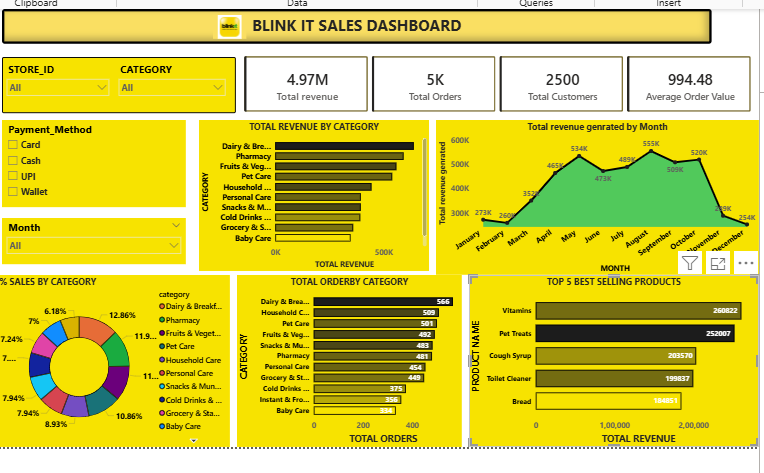

This screenshot's page, from the dashboard's own definition file:
{"tool":"powerbi","page":{"name":"sale analysis","canvas":[1600,920],"ordinal":0},"visuals":[{"type":"textbox","box":[10,0,1490,73.3],"z":0},{"type":"image","box":[453.3,11.7,70,50],"z":1000},{"type":"cardVisual","fields":{"Data":["blinkit_order_items.total orders","blinkit_orders.total customers","blinkit_marketing_performance.TOTAL REVENUE","blinkit_orders.average order value"]},"box":[501.8,81.9,1098.2,151.2],"z":2000},{"type":"barChart","title":"TOTAL REVENUE BY CATEGORY","fields":{"Category":["blinkit_products.category"],"Y":["blinkit_order_items.Total revenue genrated"]},"box":[424.1,233.1,482.9,317.1],"z":3000},{"type":"areaChart","fields":{"Y":["blinkit_order_items.Total revenue genrated"],"Category":["blinkit_orders.MONTH_NAME 1.Variation.Date Hierarchy.Month"]},"box":[921.8,228.9,678.2,325.5],"z":4000},{"type":"barChart","title":"TOTAL ORDERBY CATEGORY","fields":{"Category":["blinkit_products.category"],"Y":["blinkit_order_items.total orders"]},"box":[503.9,558.5,472.4,361.2],"z":5000},{"type":"barChart","title":"TOP 5 BEST SELLING PRODUCTS","fields":{"Category":["blinkit_products.product_name"],"Y":["blinkit_order_items.Total revenue genrated"]},"box":[991.1,558.5,608.9,361.2],"z":6000},{"type":"donutChart","title":"% SALES BY CATEGORY","fields":{"Y":["blinkit_order_items.Total revenue genrated"],"Category":["blinkit_products.category"]},"box":[0,558.5,489.2,361.2],"z":7000},{"type":"textbox","box":[10.5,100.8,491.3,117.6],"z":8000},{"type":"slicer","fields":{"Values":["blinkit_orders.store_id"]},"box":[10.5,107.1,235.2,100.8],"z":9000},{"type":"slicer","fields":{"Values":["blinkit_products.category"]},"box":[245.7,107.1,243.6,100.8],"z":10000},{"type":"slicer","fields":{"Values":["blinkit_orders.payment_method"]},"box":[10.5,233.1,386.4,182.7],"z":11000},{"type":"slicer","fields":{"Values":["blinkit_orders.MONTH_NAME 1.Variation.Date Hierarchy.Month"]},"box":[10.5,438.8,386.4,96.6],"z":12000}]}

Visuals, with their boxes on the page's 1600x920 design canvas (x1, y1, x2, y2). These are canvas units, not pixel positions in the 764x473 screenshot, which may show the page scaled, cropped or inside an application window:
textbox: x1=10, y1=0, x2=1500, y2=73
image: x1=453, y1=12, x2=523, y2=62
cardVisual - blinkit_order_items.total orders x blinkit_orders.total customers: x1=502, y1=82, x2=1600, y2=233
"TOTAL REVENUE BY CATEGORY" barChart: x1=424, y1=233, x2=907, y2=550
areaChart - blinkit_order_items.Total revenue genrated x blinkit_orders.MONTH_NAME 1.Variation.Date Hierarchy.Month: x1=922, y1=229, x2=1600, y2=554
"TOTAL ORDERBY CATEGORY" barChart: x1=504, y1=558, x2=976, y2=920
"TOP 5 BEST SELLING PRODUCTS" barChart: x1=991, y1=558, x2=1600, y2=920
"% SALES BY CATEGORY" donutChart: x1=0, y1=558, x2=489, y2=920
textbox: x1=10, y1=101, x2=502, y2=218
slicer - blinkit_orders.store_id: x1=10, y1=107, x2=246, y2=208
slicer - blinkit_products.category: x1=246, y1=107, x2=489, y2=208
slicer - blinkit_orders.payment_method: x1=10, y1=233, x2=397, y2=416
slicer - blinkit_orders.MONTH_NAME 1.Variation.Date Hierarchy.Month: x1=10, y1=439, x2=397, y2=535
